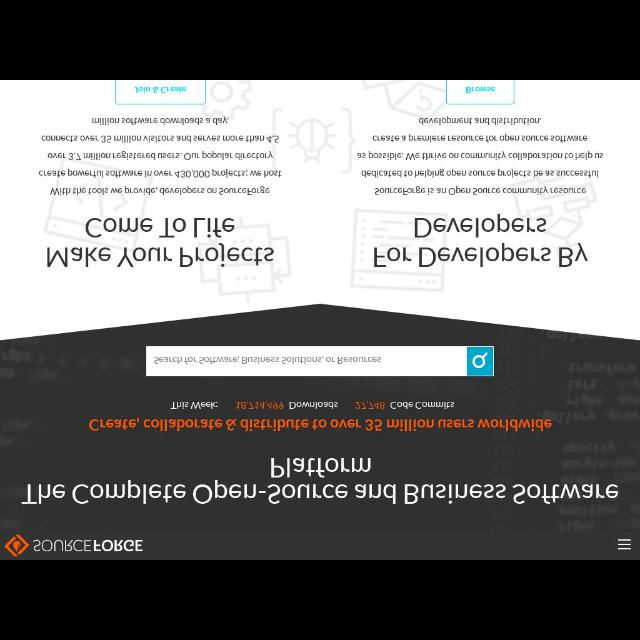button: (466, 345, 494, 375)
icon: (472, 352, 488, 368), (615, 536, 631, 552)
image: (0, 533, 144, 559)
input: (146, 347, 467, 378)
text: (19, 457, 620, 507), (36, 114, 284, 198), (359, 116, 607, 196), (374, 216, 590, 270), (44, 216, 276, 266), (86, 418, 554, 432), (170, 398, 458, 412), (152, 354, 382, 364), (135, 85, 187, 97), (464, 86, 496, 96)
textbutton: (116, 81, 204, 103), (447, 82, 515, 105)
